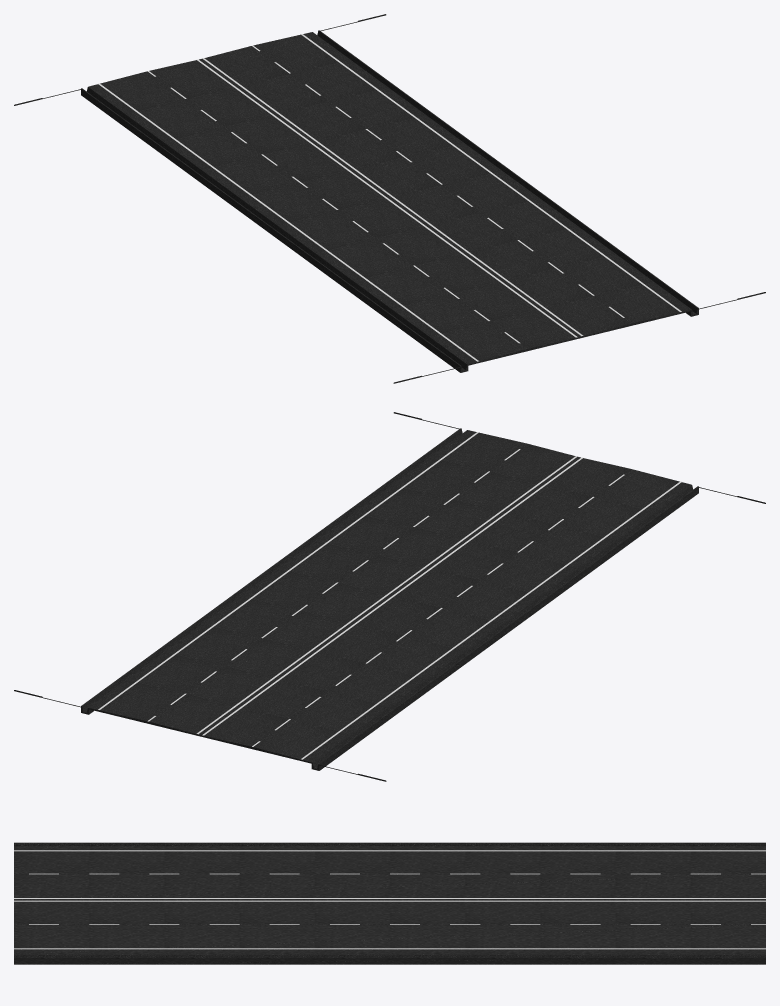
The model's file is yol.fbx.
3 views of the same model, one above another, from view 1: azimuth 30°, elevation 25°; view 2: azimuth 150°, elevation 25°; view 3: azimuth 270°, elevation 25° (orthographic).
Parts seen in each view (by area): view 1: RailClone010_002; view 2: RailClone010_002; view 3: RailClone010_002.
Part boxes in pixels (box(x1,y1,x2,y2)): RailClone010_002: box(14, 14, 765, 383); RailClone010_002: box(14, 412, 765, 781); RailClone010_002: box(14, 842, 765, 964).
Size of the model in its own units: 2833 by 57.1 by 5000.
3 materials, 1 textured.
